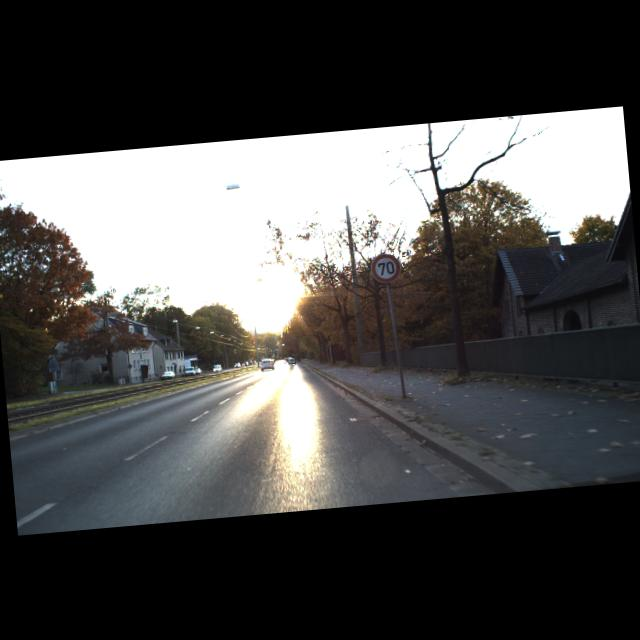prohibitory: (369, 250, 402, 284)
